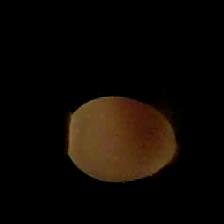infertile: (63, 94, 182, 183)
